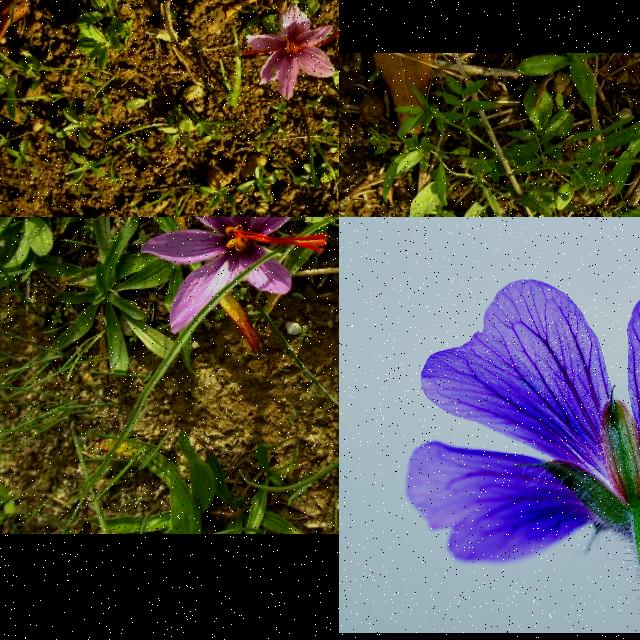flower: (140, 217, 328, 334), (244, 3, 339, 101)
